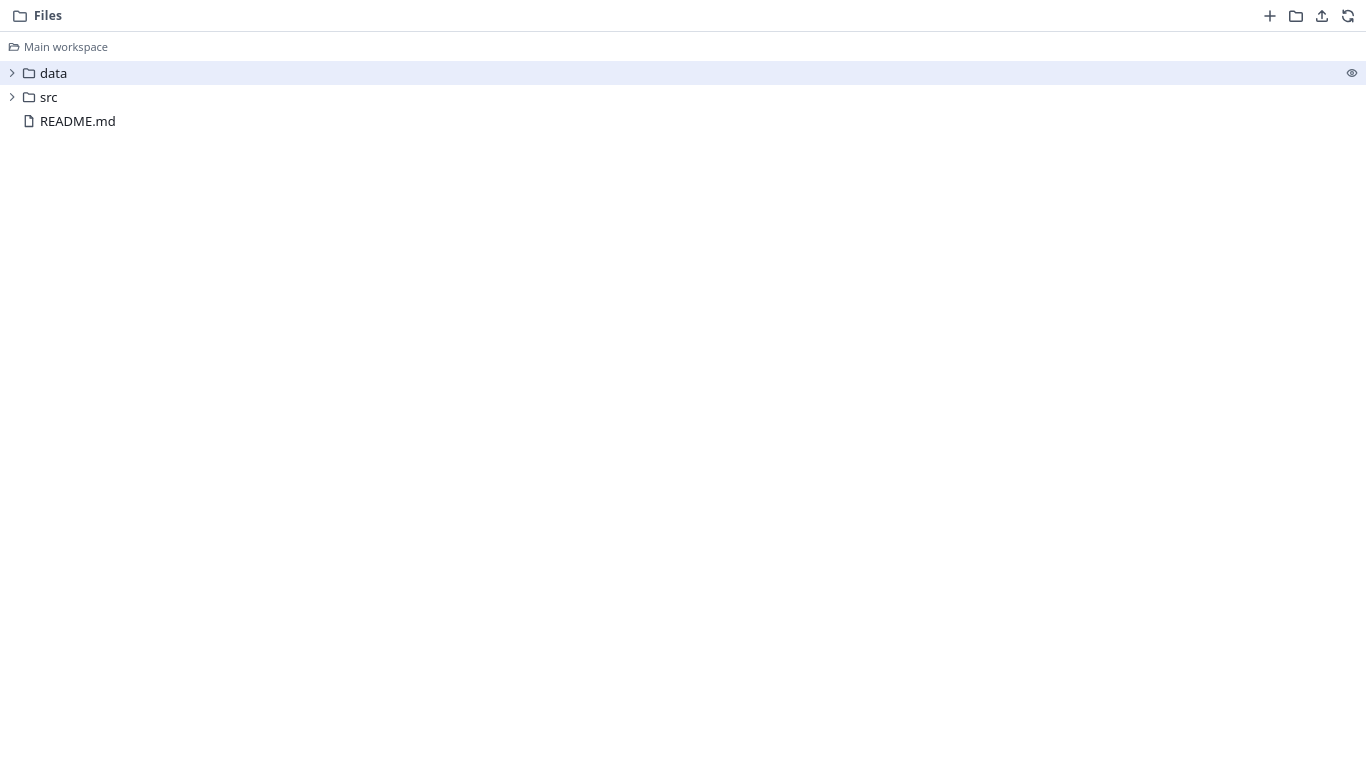
Test: FilesPanel: create / rename / delete (with confirmation) and the context menu › creates a file through a validated name dialog and opens it
The image size is (1366, 768).
Click the button named "New file" at (1270, 16), box [1258, 4, 1282, 28]
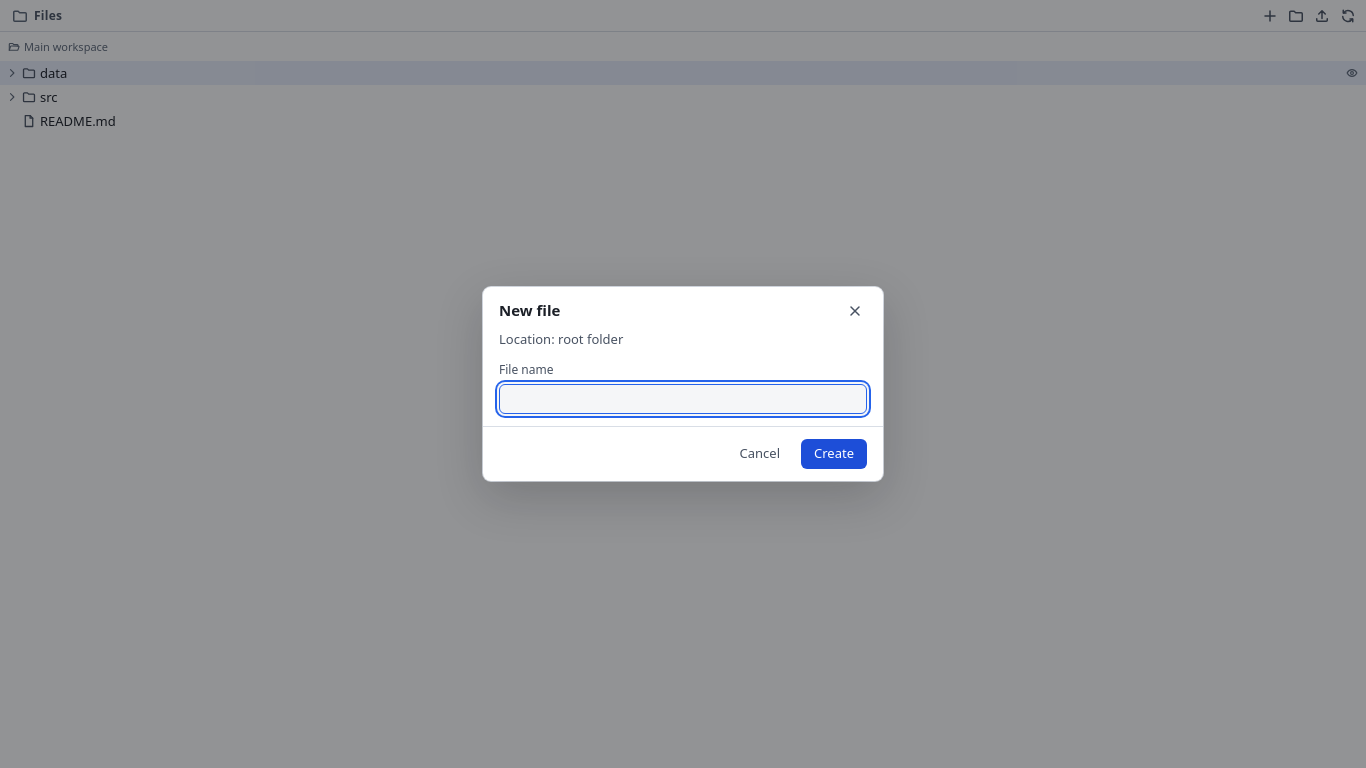
Type "readme.md" into the field labelled "File name" at (683, 399), box [499, 384, 867, 414]
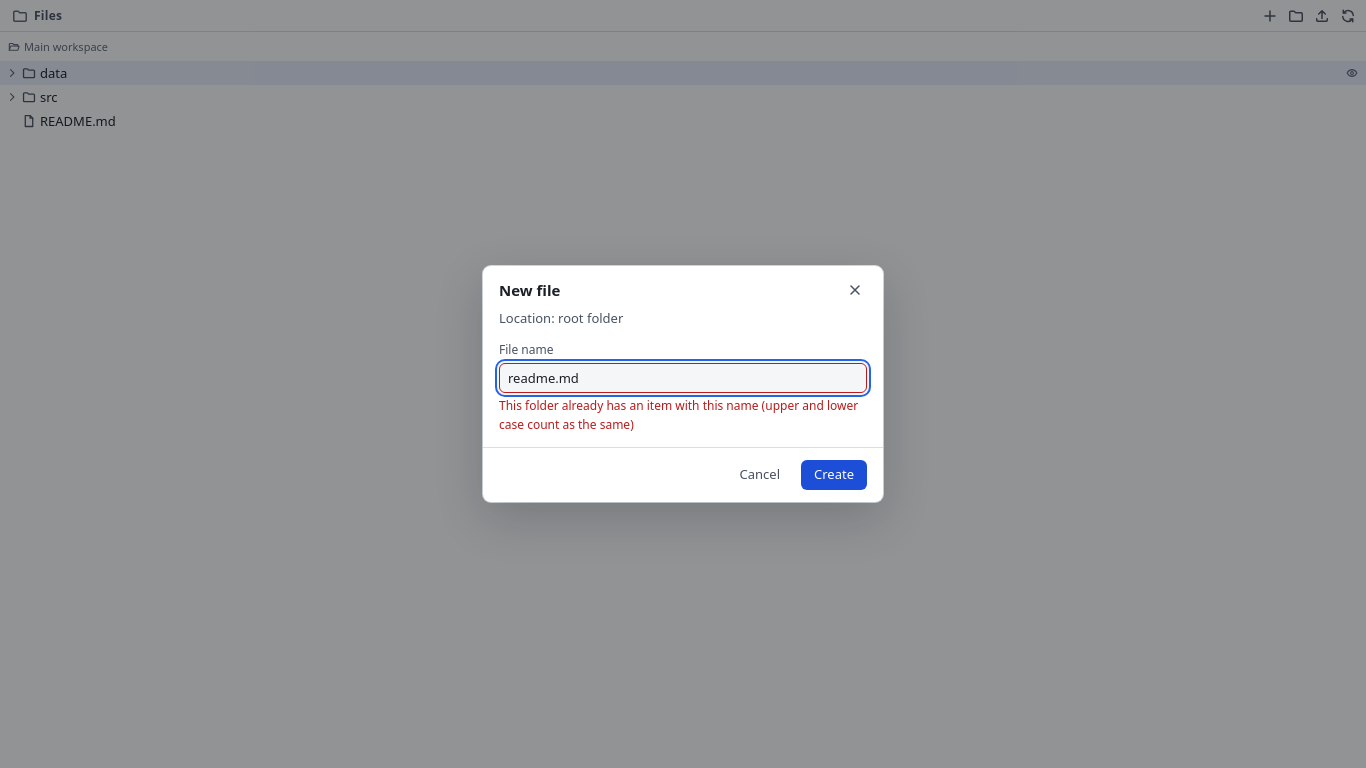
Check: the text "This folder already has an item with this name (upper and lower case count as the same)" is shown, box [499, 397, 858, 433]
Replace the text in the field labelled "File name" with "筆記.md" at (683, 378), box [499, 363, 867, 393]
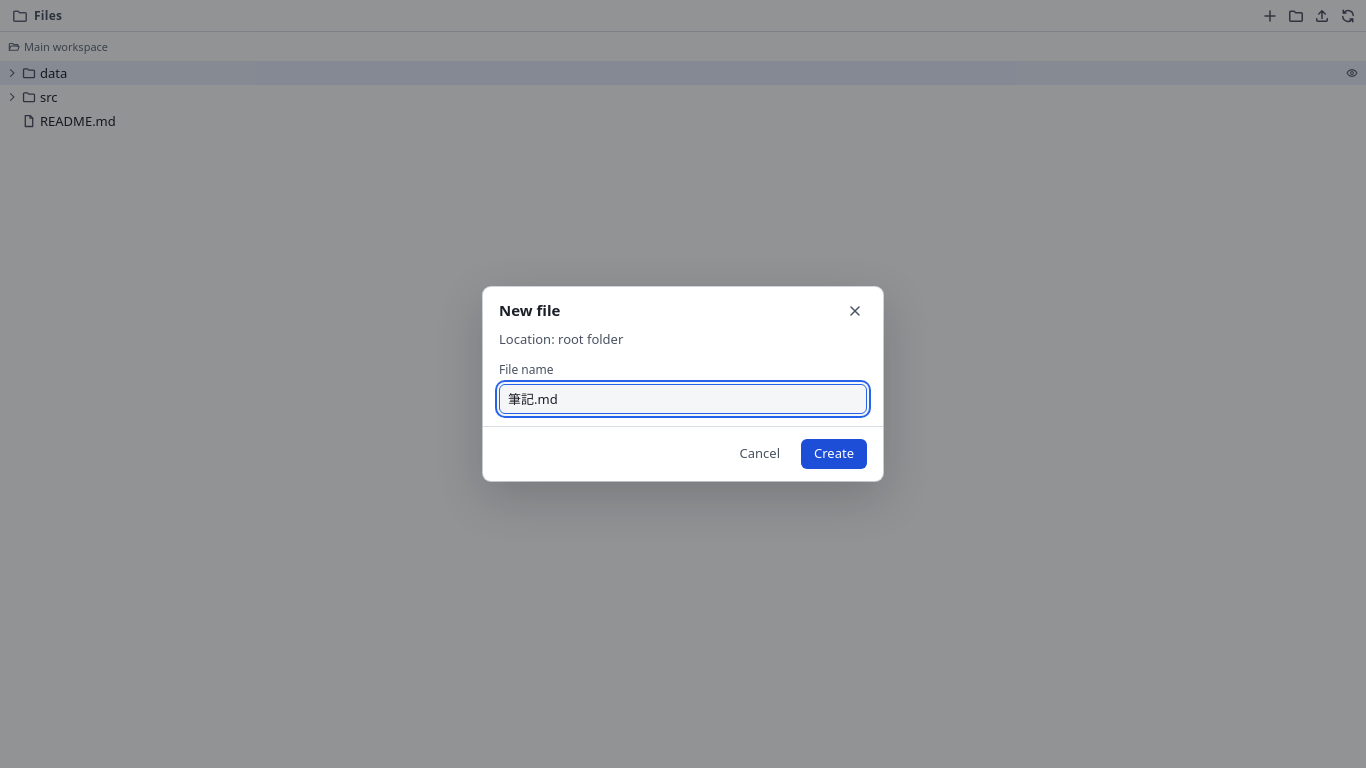
Click the button "Create" at (834, 454), box [801, 439, 867, 469]
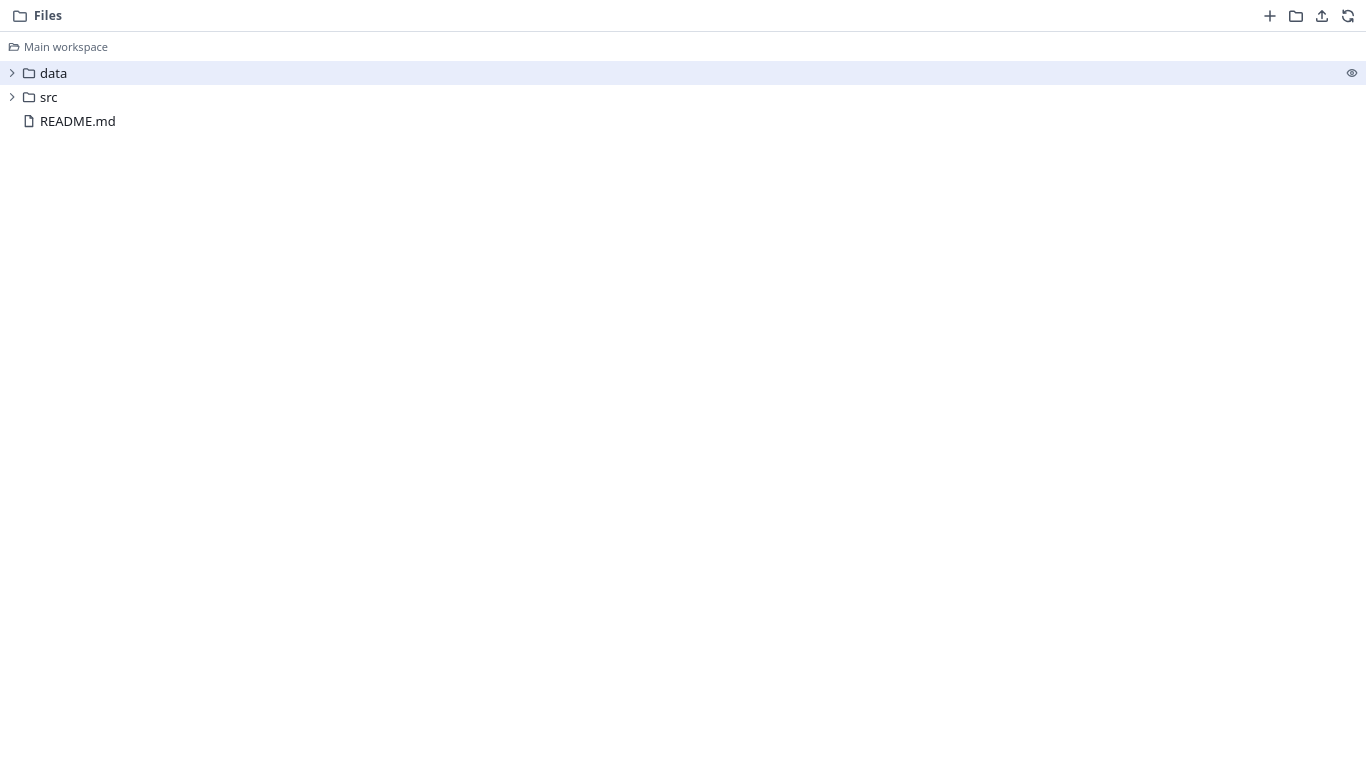
Check: the dialog is gone
